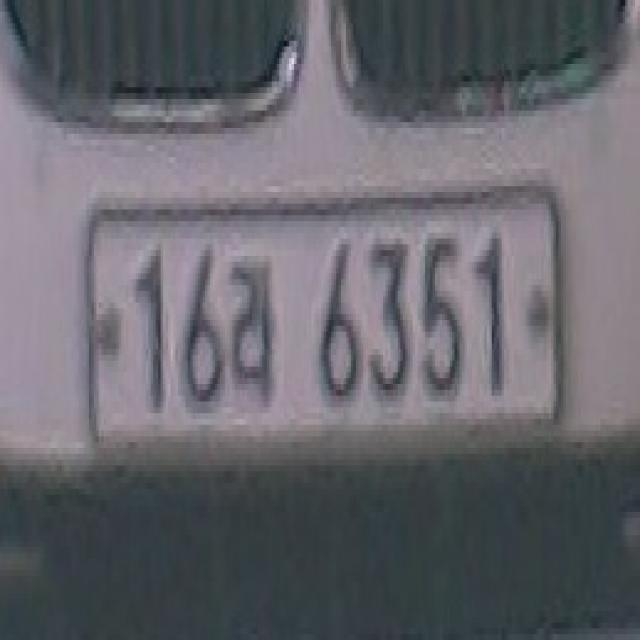1: (467, 221, 516, 425), (131, 227, 173, 436)
3: (363, 209, 420, 419)
5: (418, 221, 470, 419)
6: (314, 221, 366, 431), (178, 232, 225, 424)
la: (227, 238, 289, 424)
license_plate: (79, 169, 571, 465)
